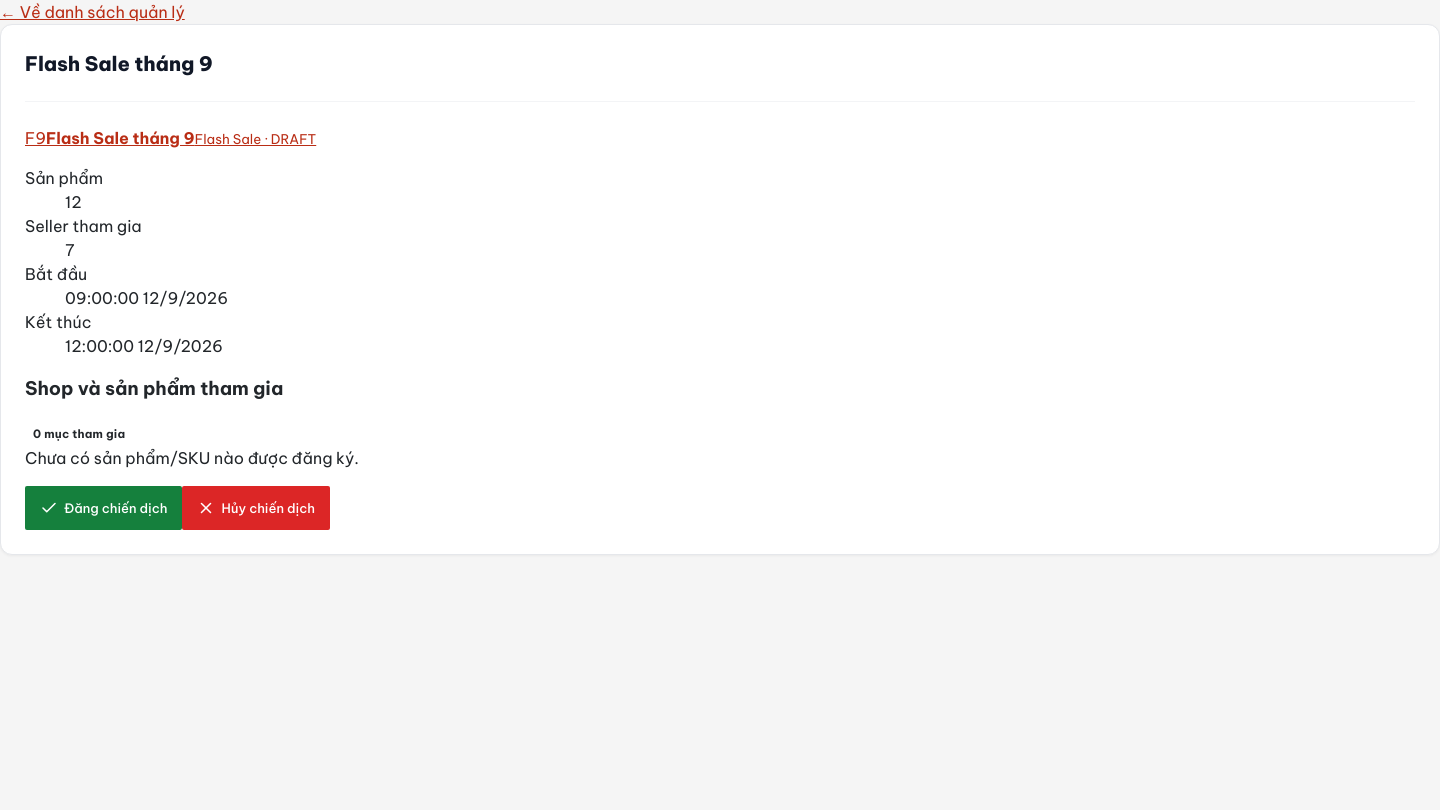
Scenario: Admin campaign detail actions › publishes a draft with the current version and refreshes the detail
This screenshot has width=1440, height=810.
Expected: the heading "Flash Sale tháng 9" is shown, [25, 49, 213, 79]
Step 1. Click the button "Đăng chiến dịch" → (104, 508), box [25, 486, 182, 530]
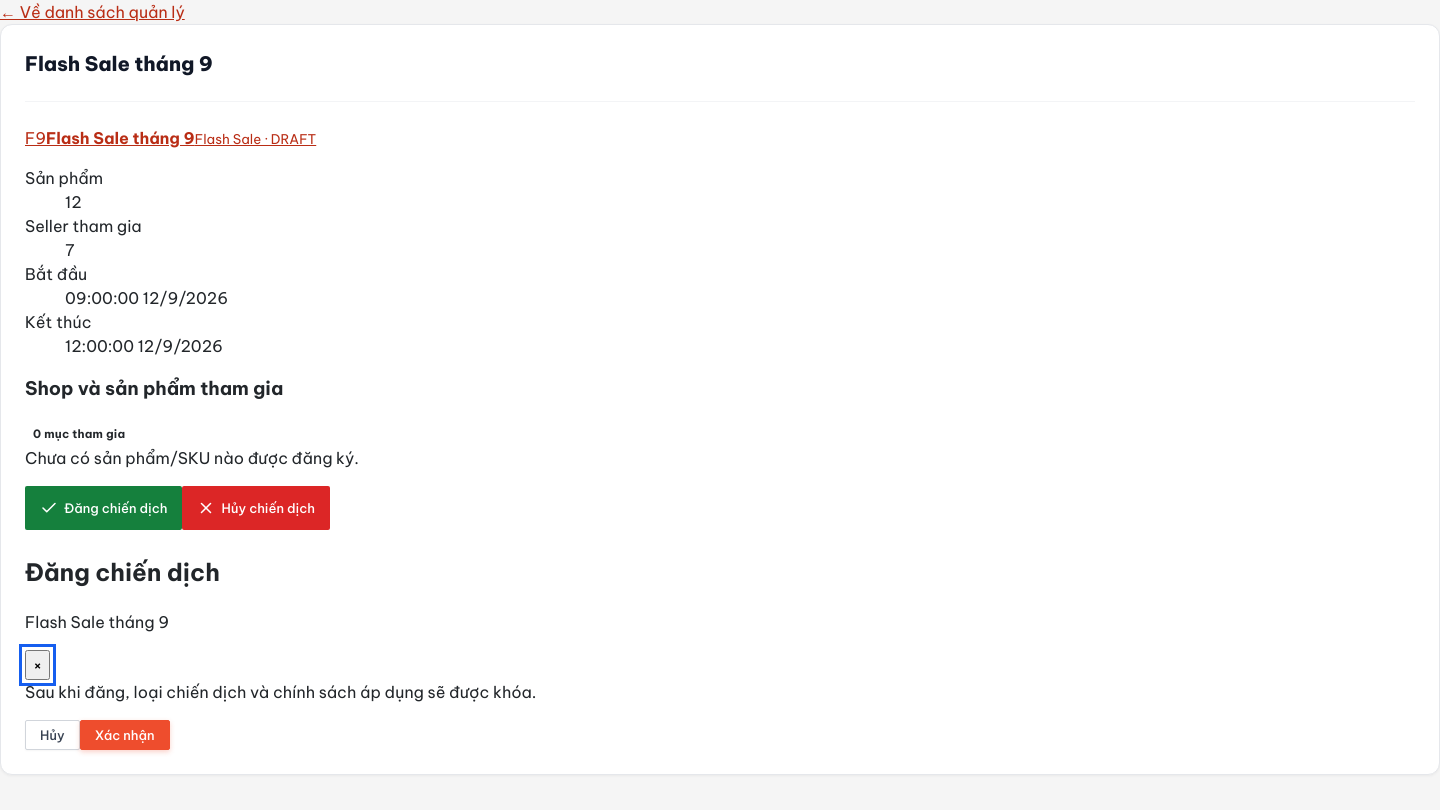
Step 2. Submit the form, box [25, 682, 536, 750]
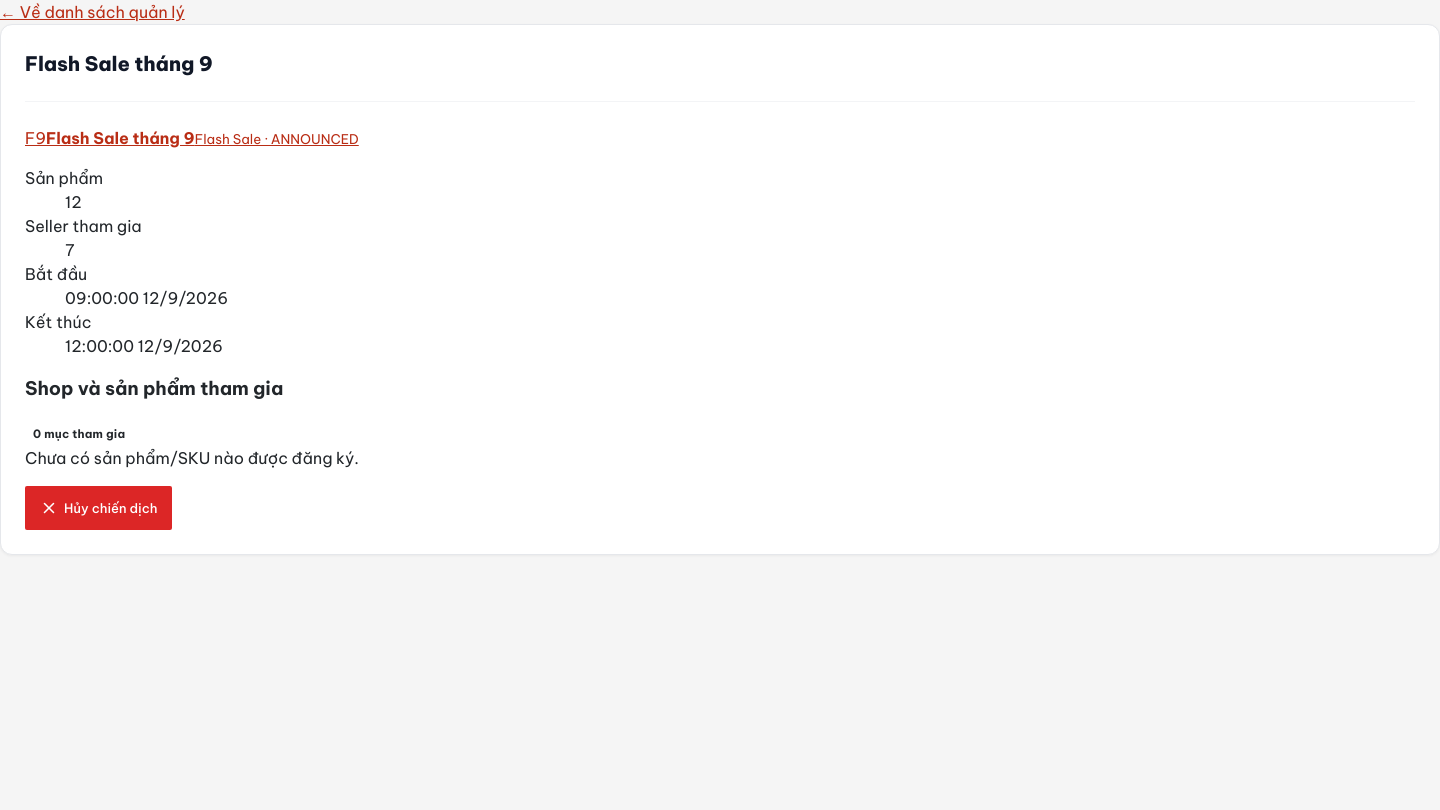
Expected: the dialog is gone
